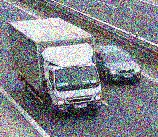car: (92, 45, 142, 85)
